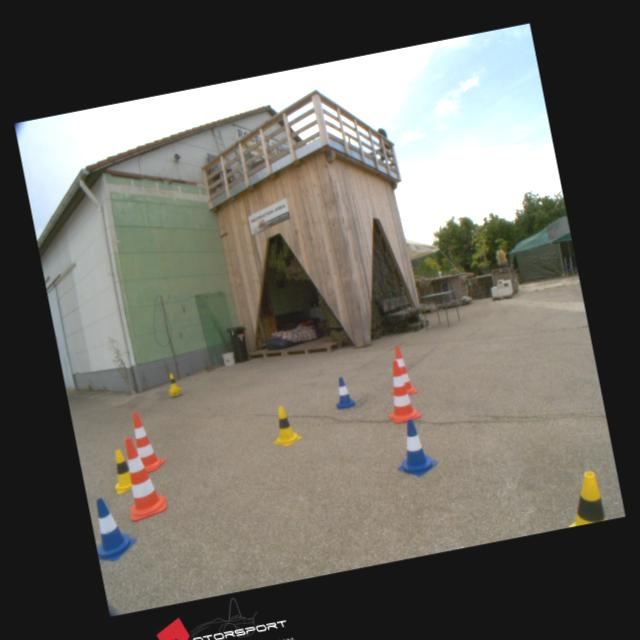blue_cone: (88, 493, 138, 564), (388, 416, 438, 479), (330, 376, 354, 410)
large_orange_cone: (116, 434, 168, 520), (378, 358, 422, 423), (126, 409, 166, 474), (384, 344, 416, 396)
yellow_cone: (558, 470, 606, 528), (267, 402, 302, 448), (108, 448, 135, 493), (166, 372, 180, 390)
